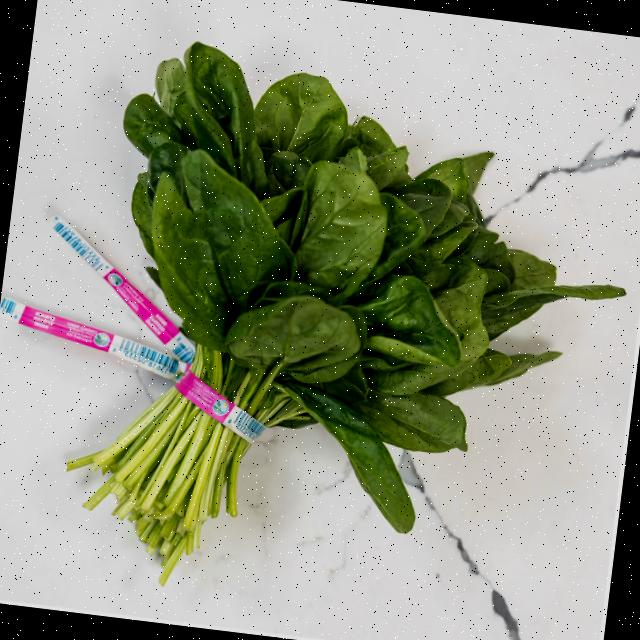spinach: (7, 17, 611, 606)
